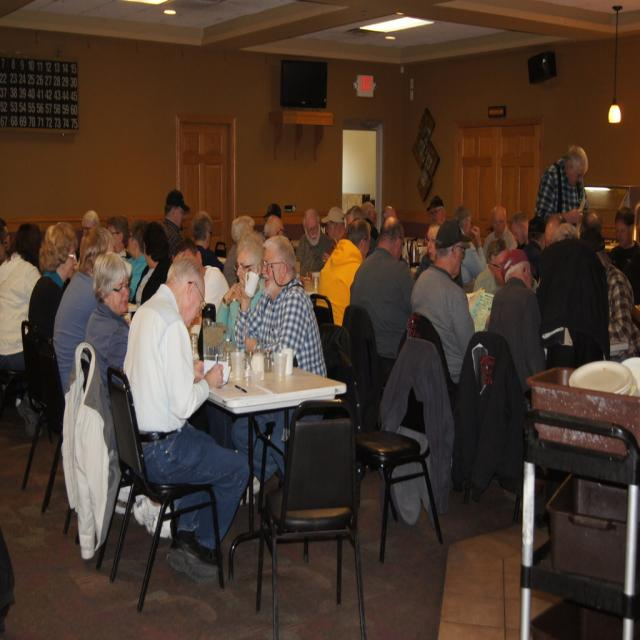chair: (324, 315, 444, 566), (104, 364, 222, 612), (256, 408, 367, 639), (20, 320, 66, 516), (569, 358, 635, 397), (309, 294, 335, 329)
desk: (196, 365, 342, 570)
person: (122, 251, 252, 560), (535, 210, 610, 366), (410, 219, 475, 389), (349, 214, 415, 370), (53, 228, 109, 394), (487, 246, 548, 397), (583, 210, 640, 360), (0, 219, 41, 418), (84, 251, 132, 415), (29, 220, 79, 342), (318, 208, 365, 326), (216, 236, 265, 344), (534, 145, 589, 231), (609, 205, 640, 308)
tv: (280, 58, 328, 108)
